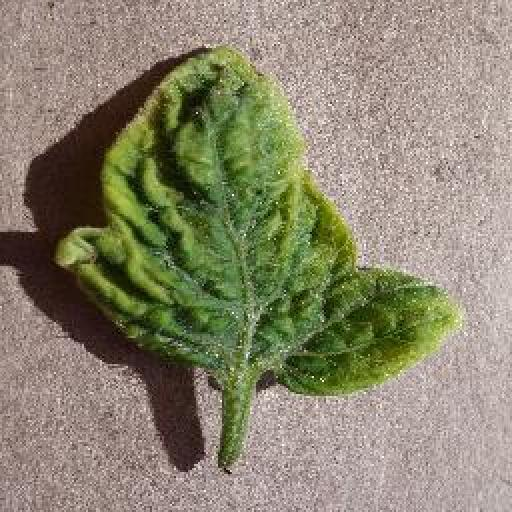disease_tomato: (57, 42, 460, 402)
